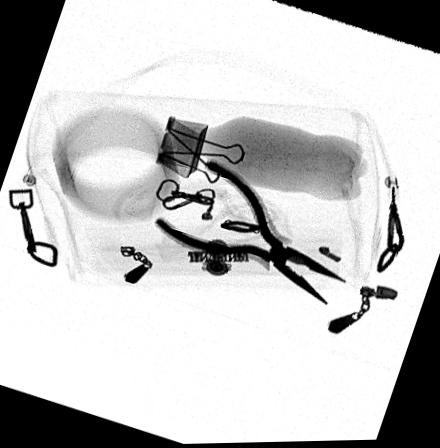Pliers: (154, 158, 347, 308)
